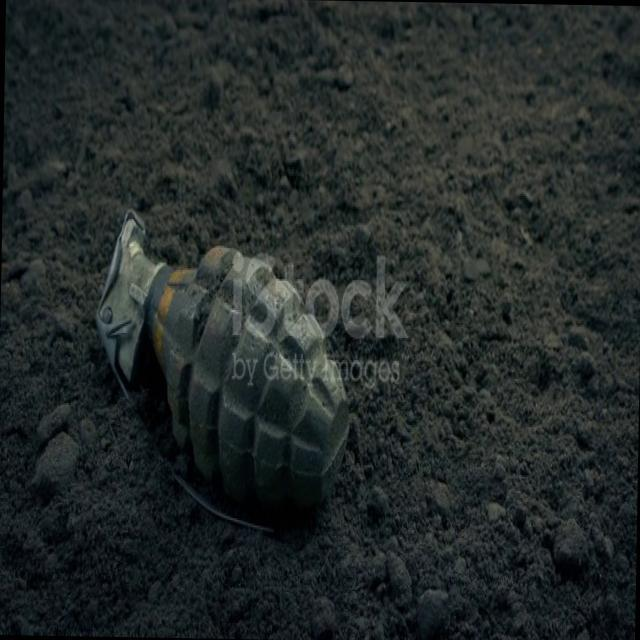grenade: (93, 210, 354, 546)
